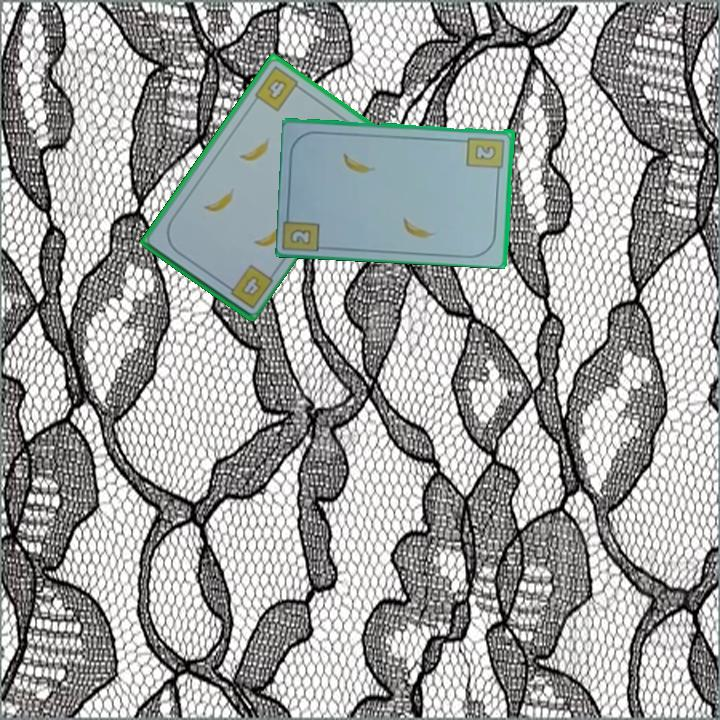2b: (464, 133, 507, 177), (286, 226, 315, 247)
4b: (250, 62, 306, 114), (220, 261, 276, 311)
